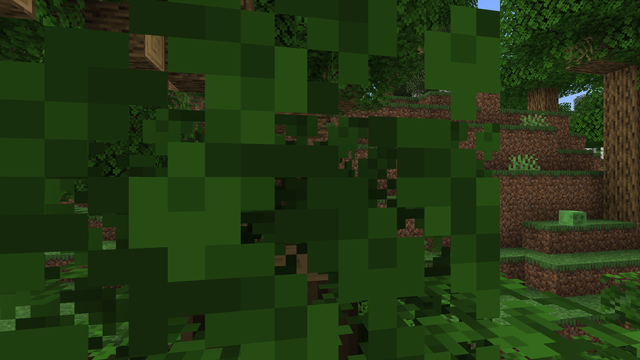slimes: (558, 209, 586, 226)
